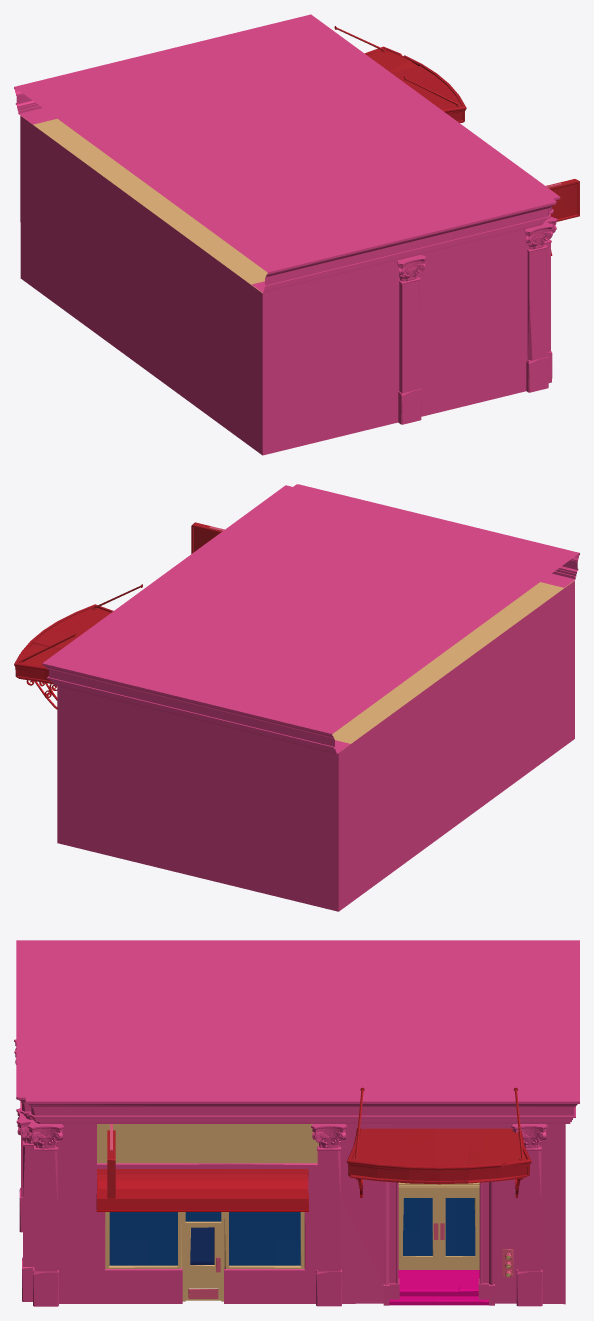
File: StoreFront04.fbx
3 views of the same model, one above another, from view 1: azimuth 30°, elevation 25°; view 2: azimuth 150°, elevation 25°; view 3: azimuth 270°, elevation 25° (orthographic). The views are drawn at different scales.
Visible parts, largest first — view 1: SM_StoreFront_02e.mo; view 2: SM_StoreFront_02e.mo; view 3: SM_StoreFront_02e.mo.
Part boxes in pixels (left/top/right/bottom): SM_StoreFront_02e.mo: left=14, top=14, right=579, bottom=455; SM_StoreFront_02e.mo: left=14, top=484, right=579, bottom=911; SM_StoreFront_02e.mo: left=14, top=940, right=579, bottom=1306.
Size of the model in its own units: 1213 by 633 by 1483.
